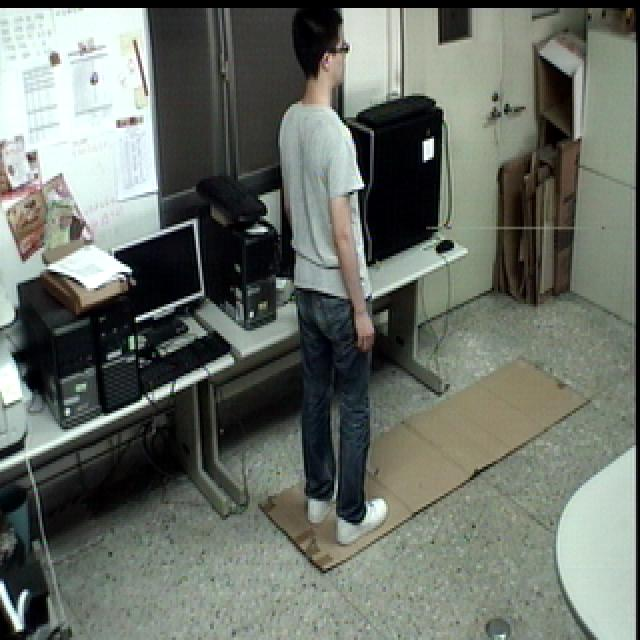stand: (267, 0, 402, 547)
